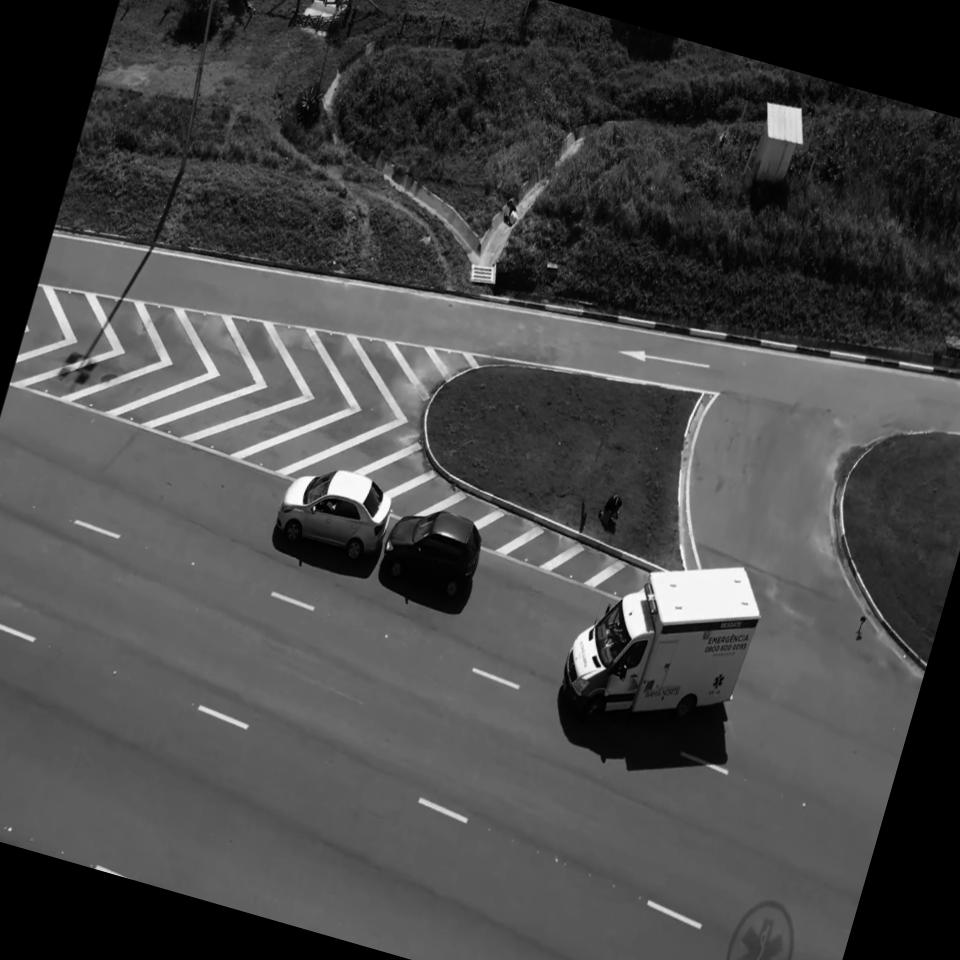bombeiro: (548, 522, 774, 766)
